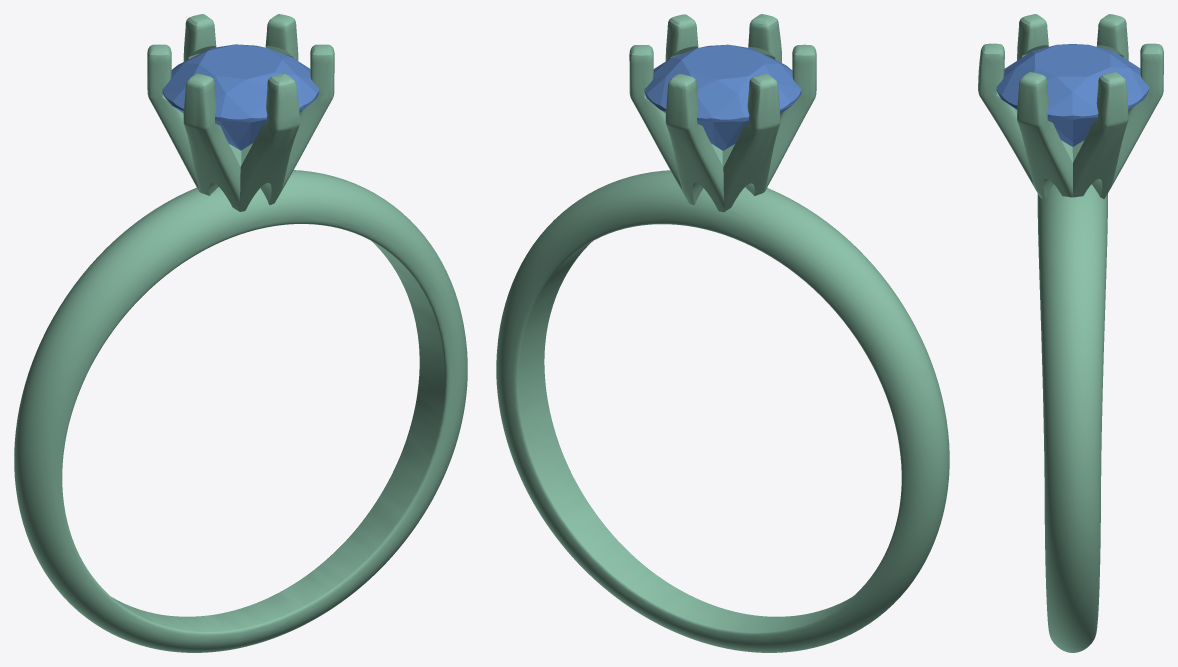
3 renders of one model, left to right at view 1: azimuth 30°, elevation 25°; view 2: azimuth 150°, elevation 25°; view 3: azimuth 270°, elevation 25°, orthographic. The views are drawn at different scales.
Visible parts, largest first — view 1: object 1, Gem; view 2: object 1, Gem; view 3: object 1, Gem.
Part boxes in pixels (left/top/right/bottom): object 1: left=14, top=14, right=467, bottom=652; Gem: left=162, top=44, right=319, bottom=150; object 1: left=496, top=14, right=949, bottom=652; Gem: left=644, top=44, right=801, bottom=150; object 1: left=978, top=14, right=1163, bottom=652; Gem: left=996, top=44, right=1148, bottom=146.
Bounding box in the file's own units: 2.4 × 3.07 × 0.8895.
